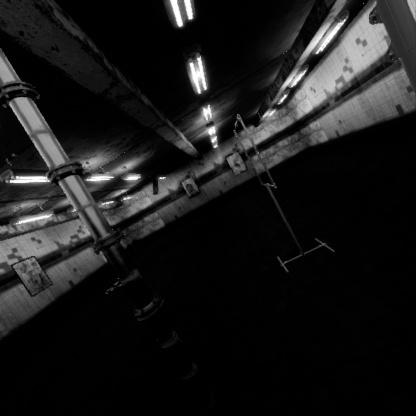gate: (236, 226, 280, 302)
